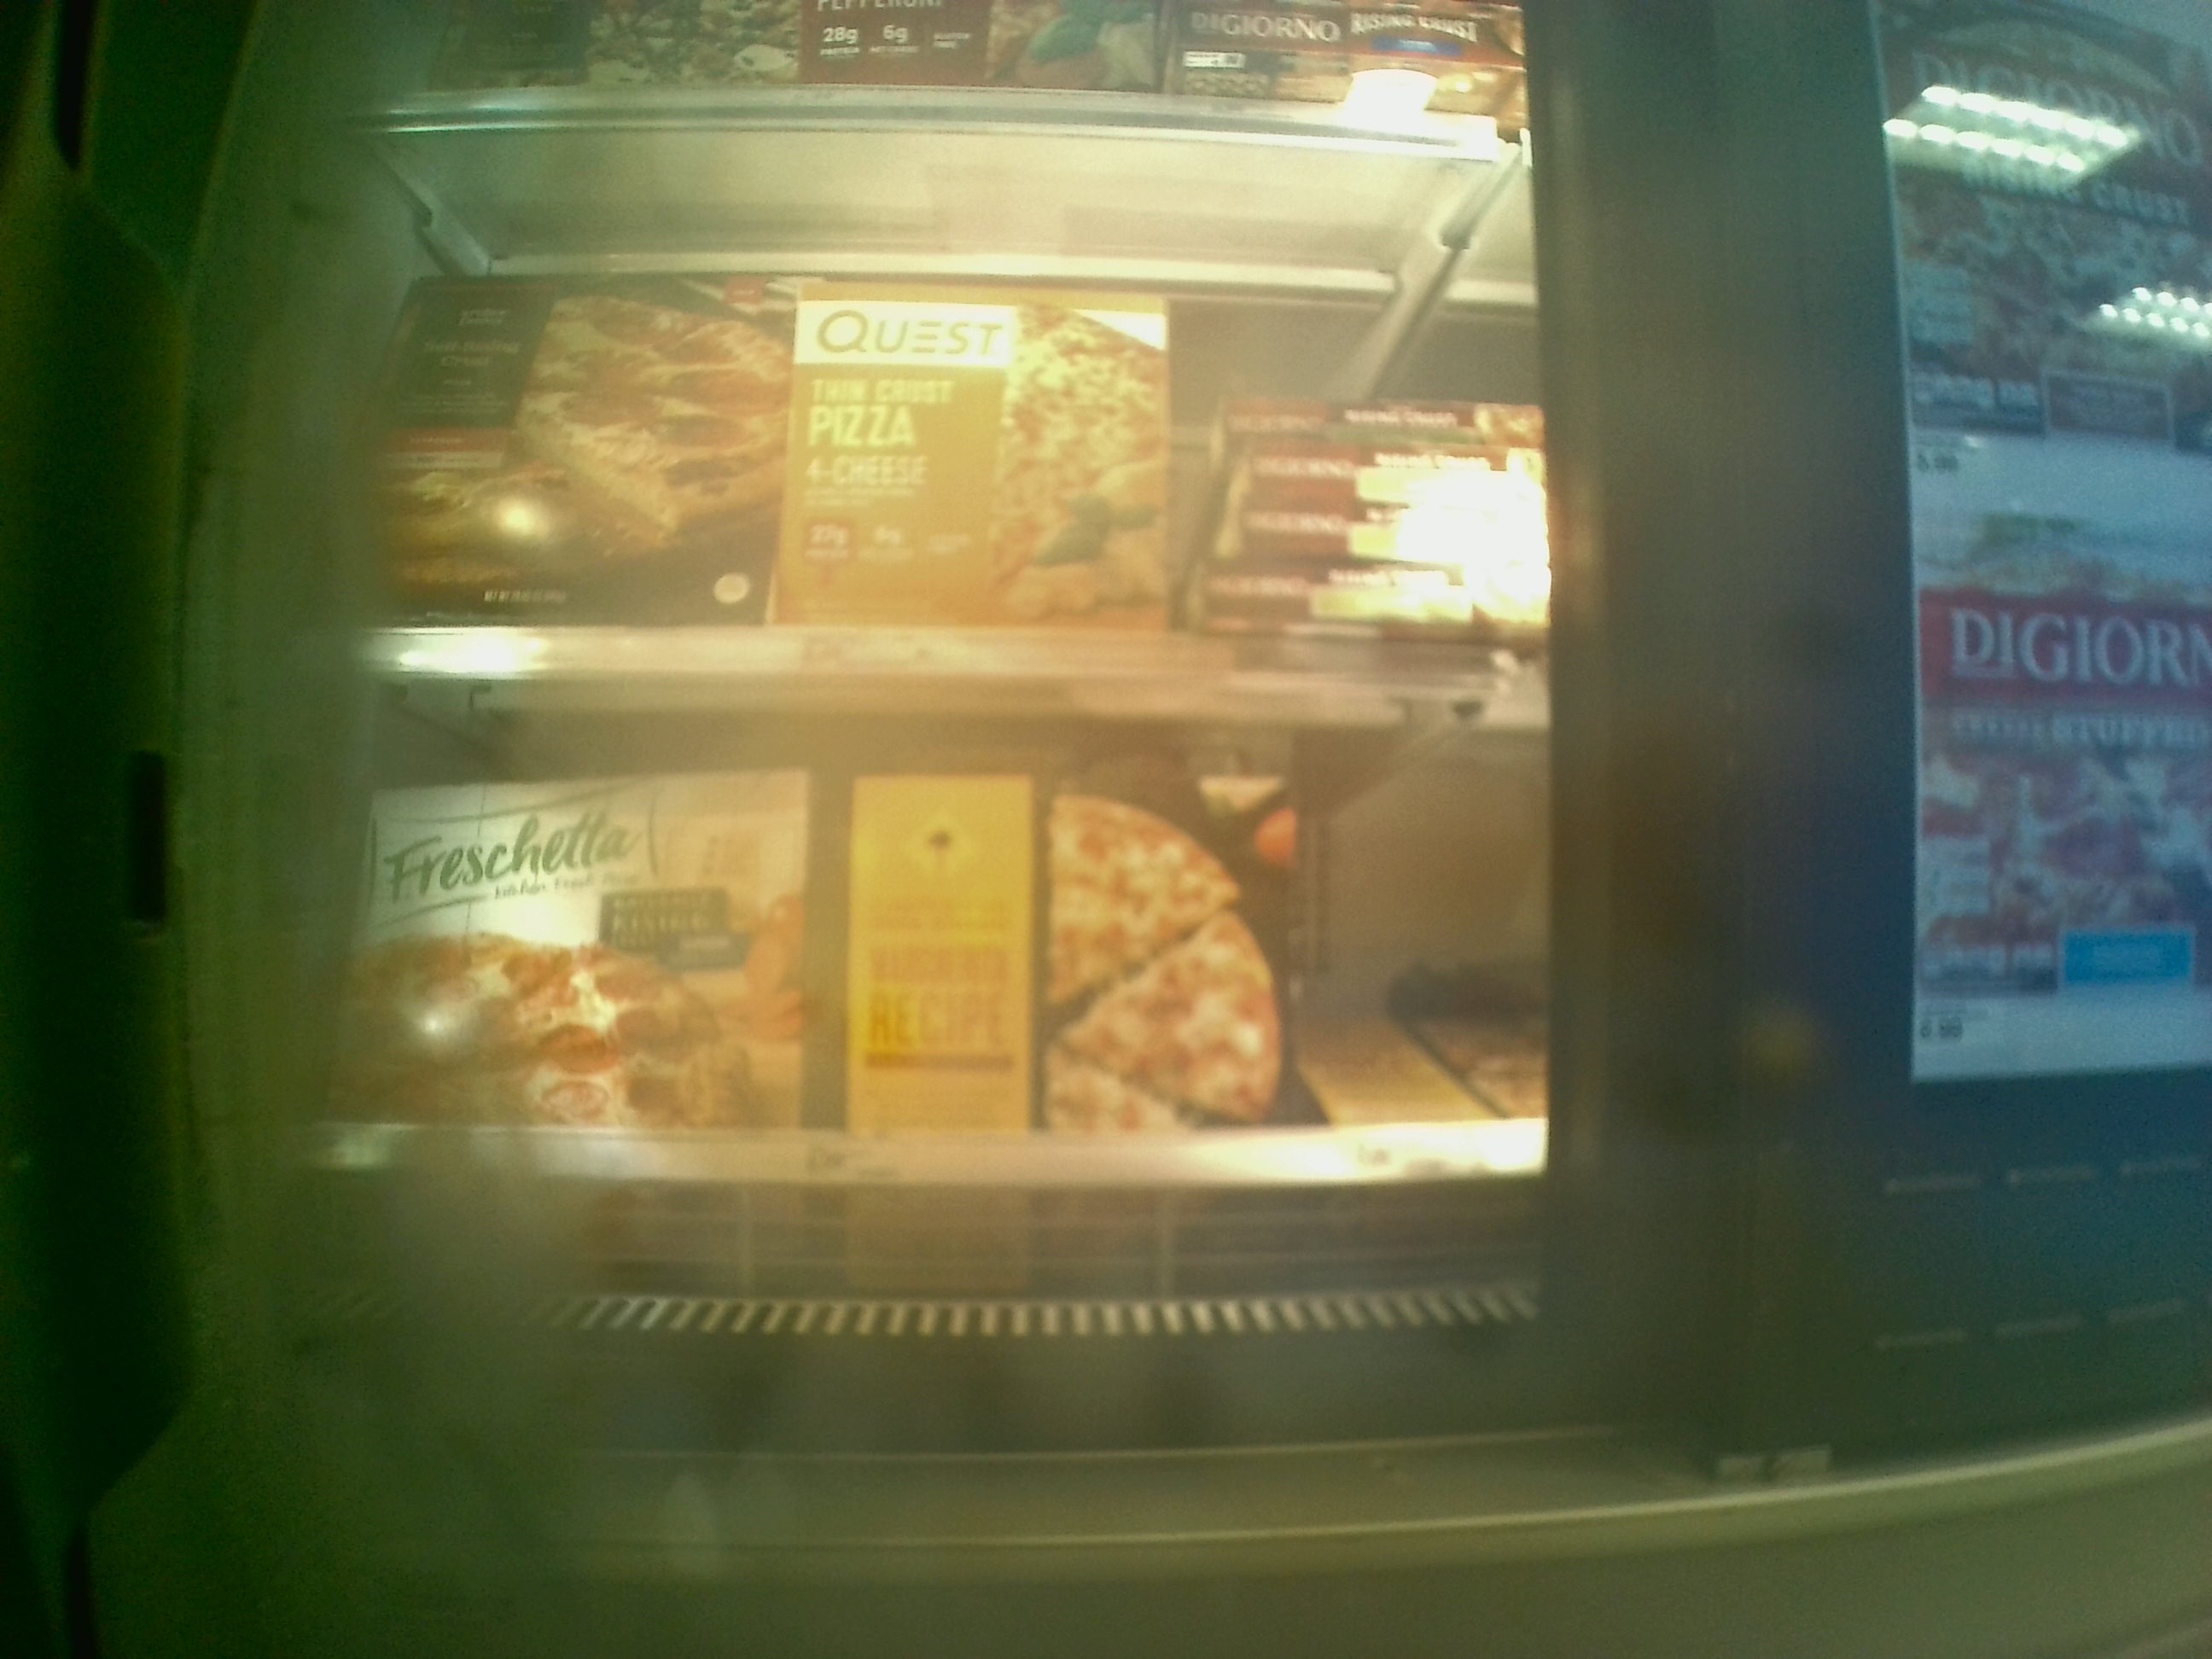shelf: (340, 664, 1564, 1188)
